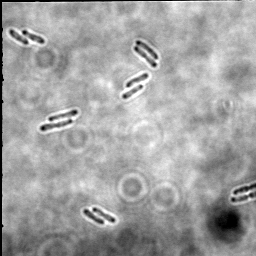Dividing: (133, 44, 159, 69), (39, 117, 74, 133), (92, 206, 118, 224), (229, 190, 255, 205), (232, 181, 255, 196)
Rod: (135, 39, 160, 61), (47, 108, 79, 122), (125, 71, 151, 88), (122, 83, 145, 101), (22, 29, 46, 46), (8, 28, 30, 46), (83, 208, 105, 226)
